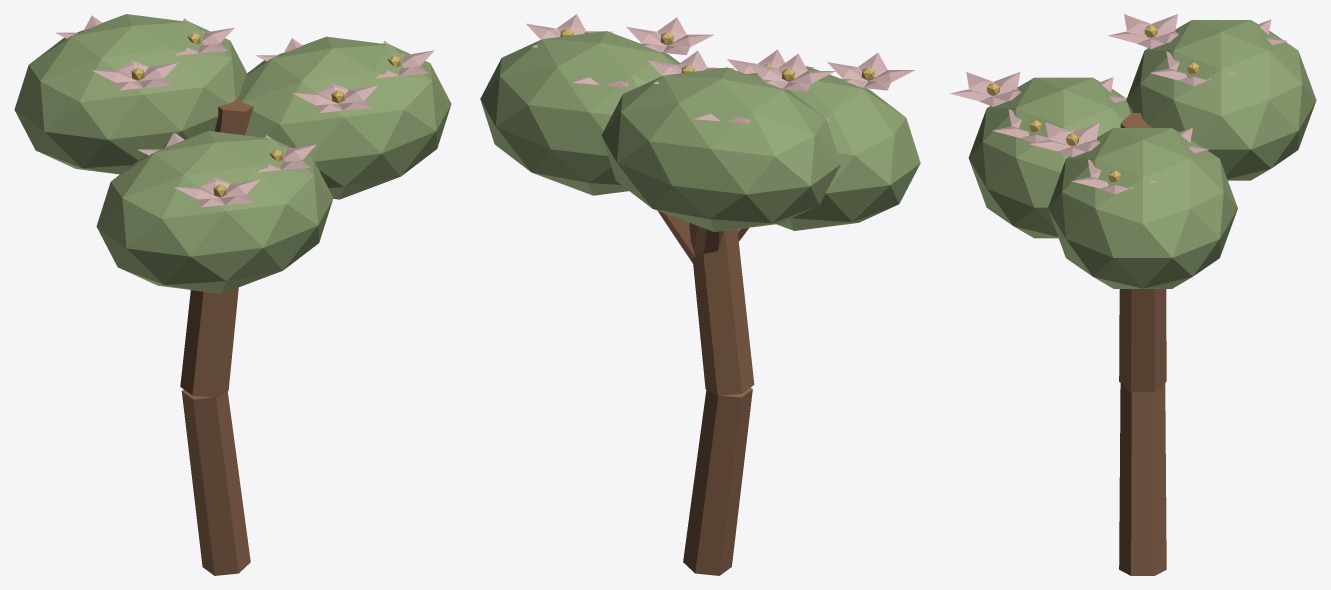
Rendered from map-exclusive-v3__village_01.glb.
3 renders of one model, left to right at view 1: azimuth 30°, elevation 25°; view 2: azimuth 150°, elevation 25°; view 3: azimuth 270°, elevation 25°, orthographic. The views are drawn at different scales.
Visible parts, largest first — view 1: village_01; view 2: village_01; view 3: village_01.
Part boxes in pixels (x1=…): village_01: x1=14, y1=14, x2=451, y2=575; village_01: x1=480, y1=14, x2=920, y2=575; village_01: x1=950, y1=14, x2=1316, y2=575.
Bounding box in the file's own units: 2.97 × 4.06 × 2.62.
